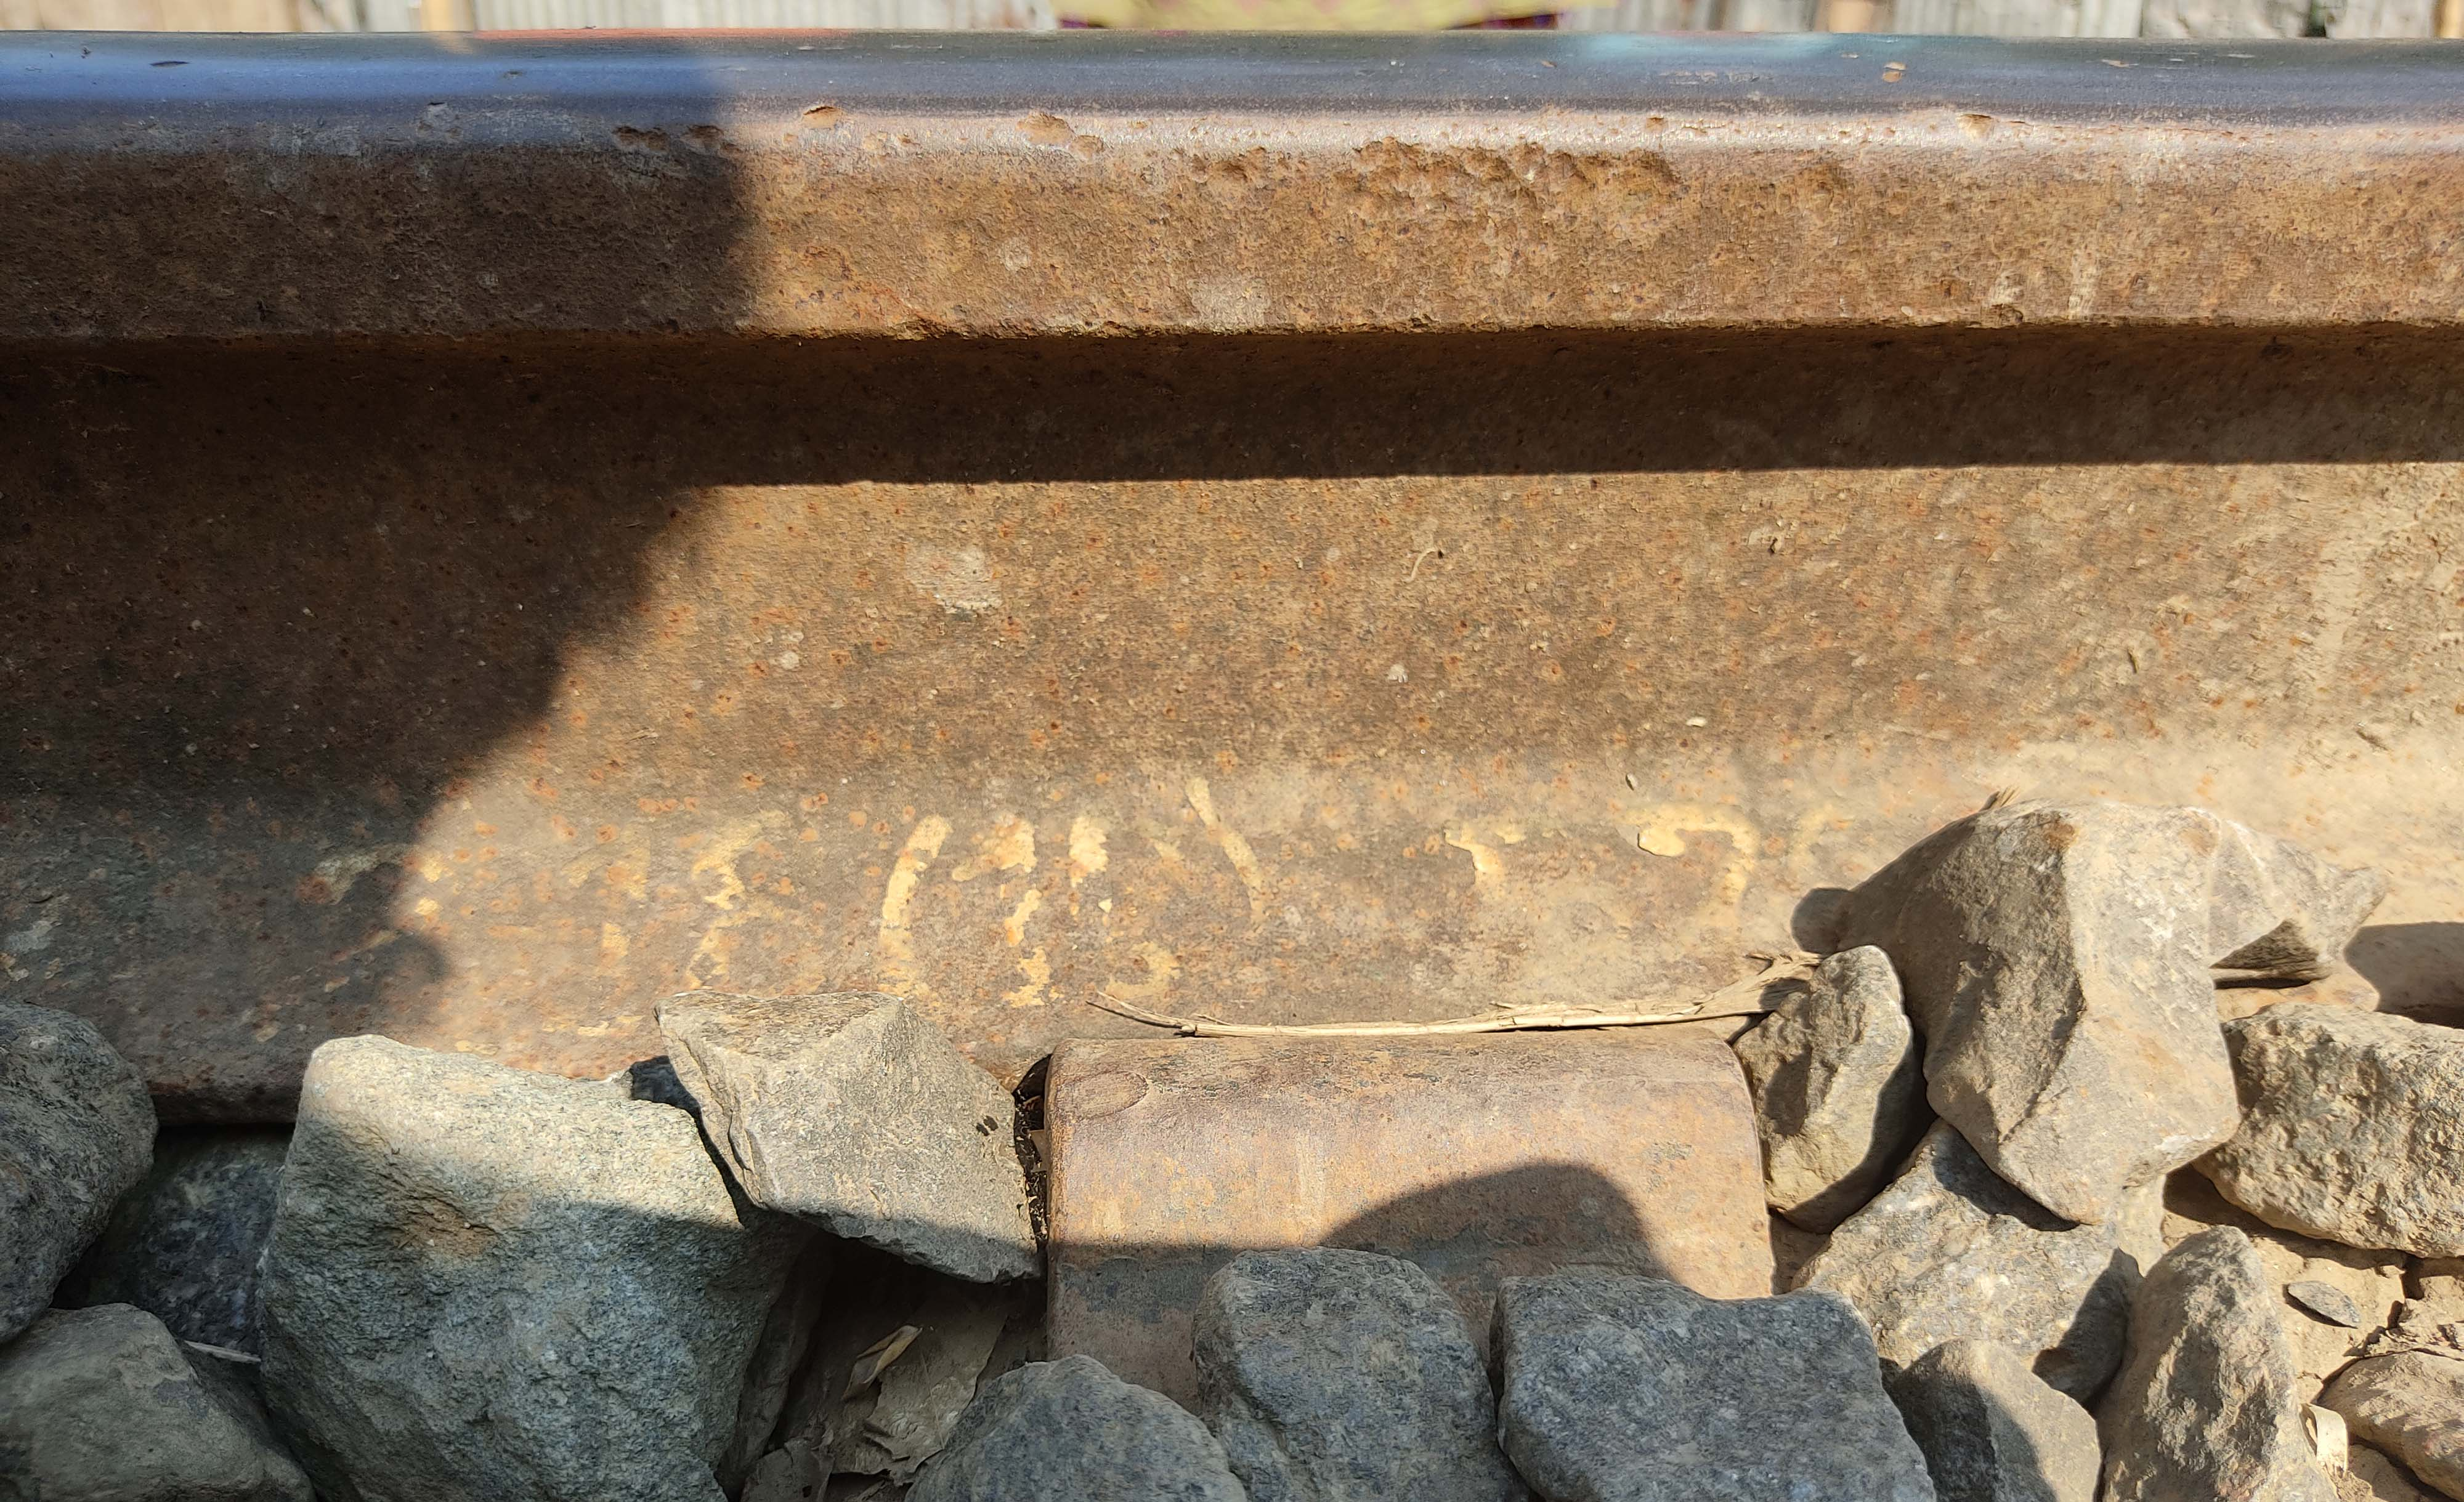error1: (989, 902, 1826, 1413)
